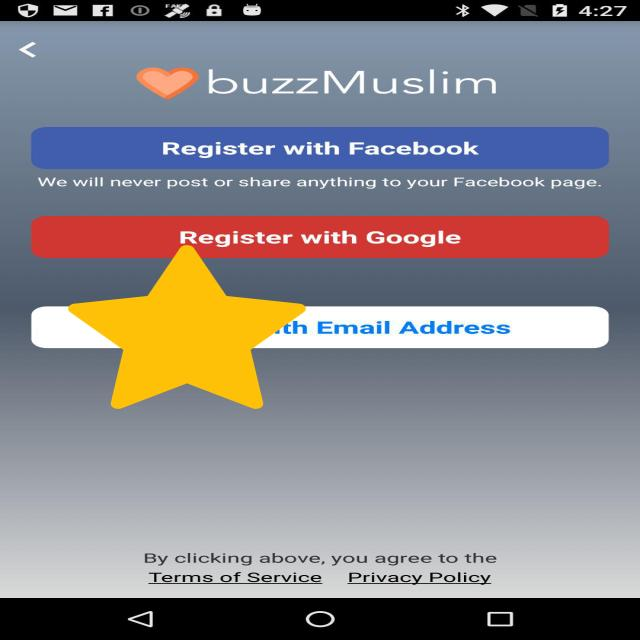forced continuity: (68, 245, 306, 409)
